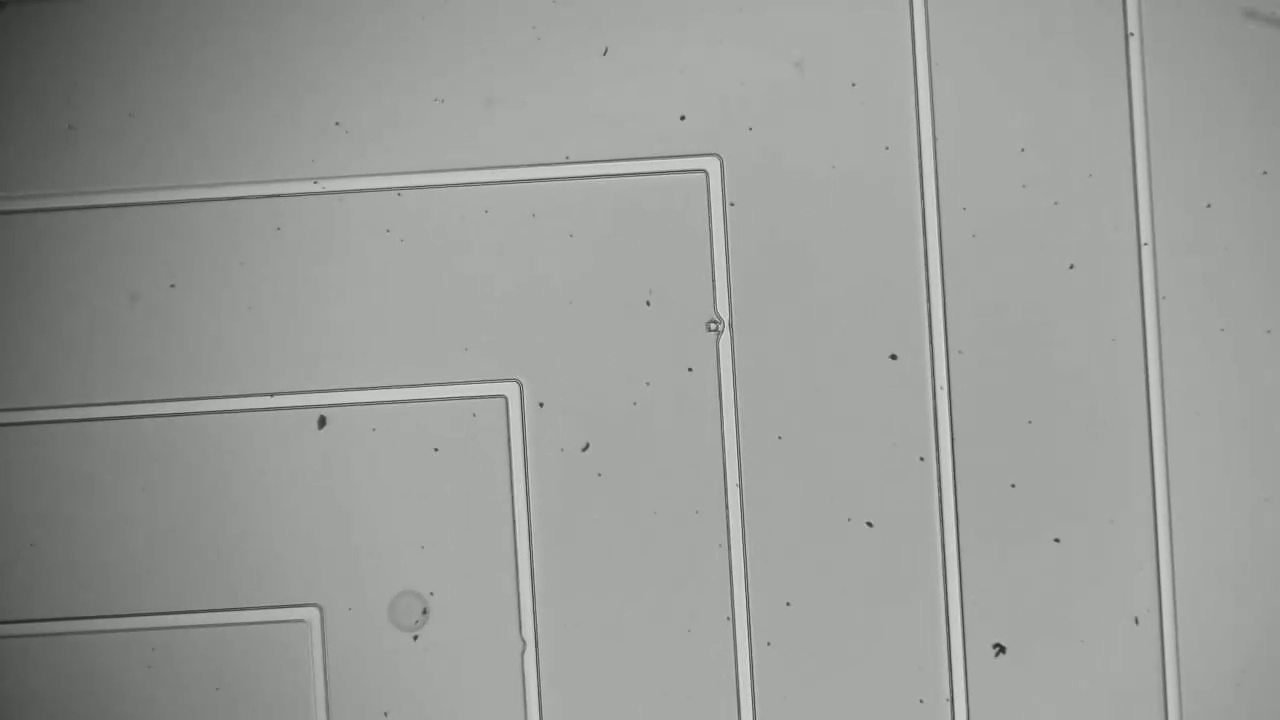edge_bite: (698, 300, 747, 346), (514, 621, 547, 667)
